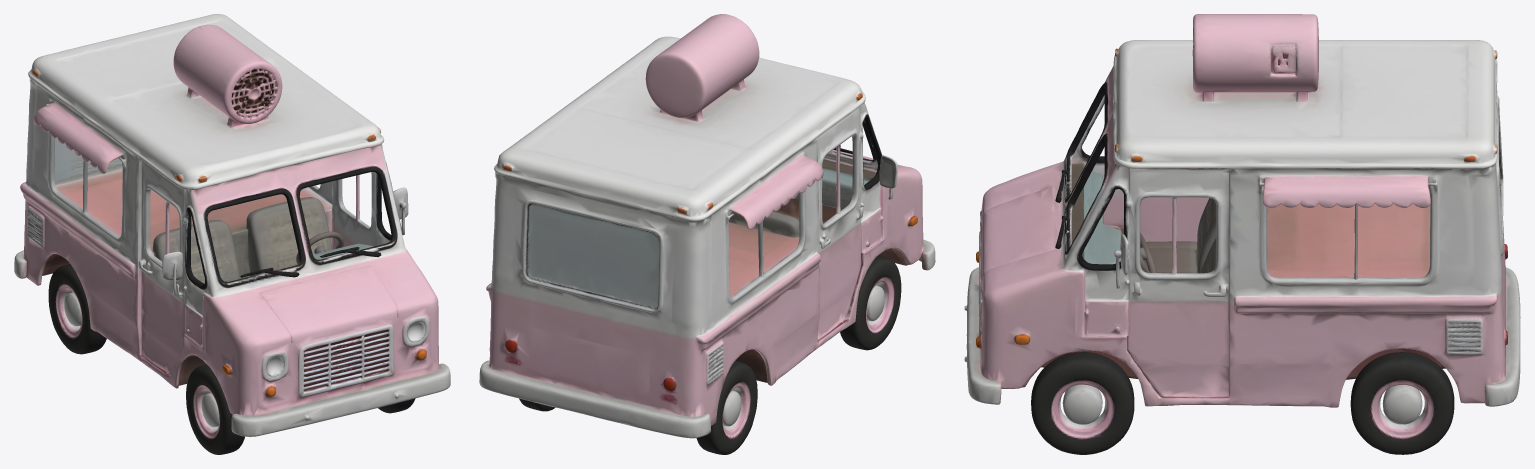
File: 058_ice_cream_truck.glb
3 views of the same model, side by side, from view 1: azimuth 30°, elevation 25°; view 2: azimuth 150°, elevation 25°; view 3: azimuth 270°, elevation 25° (orthographic). The views are drawn at different scales.
Visible parts, largest first — view 1: geometry_0; view 2: geometry_0; view 3: geometry_0.
Boxes of the visible parts, left/top/right/bottom form: geometry_0: left=14, top=14, right=450, bottom=454; geometry_0: left=479, top=14, right=935, bottom=454; geometry_0: left=964, top=14, right=1520, bottom=454.
Size of the model in its own units: 3.33 by 4.2 by 5.5.
Materials: 1 (1 with a texture image).
